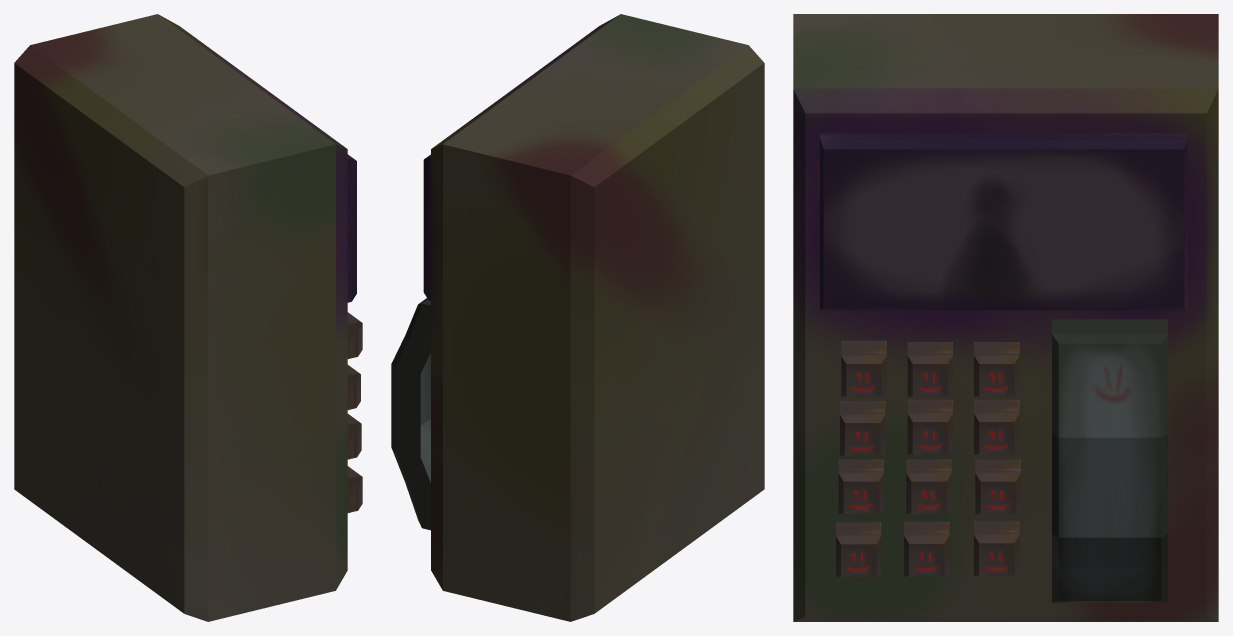
File: checkin-machine.fbx
3 views of the same model, side by side, from view 1: azimuth 30°, elevation 25°; view 2: azimuth 150°, elevation 25°; view 3: azimuth 270°, elevation 25° (orthographic). The views are drawn at different scales.
Parts seen in each view (by area): view 1: check-in-box, check-in-screen, check-in-button.009, check-in-button, check-in-button.006, check-in-button.003; view 2: check-in-box, phone, check-in-screen; view 3: check-in-box, check-in-screen, phone, check-in-button, check-in-button.005, check-in-button.007, check-in-button.008, check-in-button.010, check-in-button.004, check-in-button.006, check-in-button.001, check-in-button.002 (+3 smaller).
Part boxes in pixels (x1=…): check-in-box: x1=14, y1=14, x2=347, y2=621; check-in-screen: x1=347, y1=154, x2=356, y2=302; check-in-button.009: x1=347, y1=466, x2=362, y2=512; check-in-button: x1=347, y1=312, x2=362, y2=358; check-in-button.006: x1=347, y1=414, x2=361, y2=459; check-in-button.003: x1=347, y1=365, x2=360, y2=409; check-in-box: x1=431, y1=14, x2=764, y2=621; phone: x1=391, y1=298, x2=430, y2=530; check-in-screen: x1=423, y1=154, x2=430, y2=300; check-in-box: x1=793, y1=14, x2=1218, y2=621; check-in-screen: x1=820, y1=133, x2=1187, y2=310; phone: x1=1052, y1=319, x2=1167, y2=602; check-in-button: x1=841, y1=340, x2=886, y2=396; check-in-button.005: x1=974, y1=399, x2=1019, y2=454; check-in-button.007: x1=906, y1=459, x2=951, y2=514; check-in-button.008: x1=975, y1=459, x2=1020, y2=514; check-in-button.010: x1=904, y1=521, x2=949, y2=576; check-in-button.004: x1=907, y1=399, x2=952, y2=454; check-in-button.006: x1=838, y1=459, x2=883, y2=514; check-in-button.001: x1=907, y1=342, x2=952, y2=396; check-in-button.002: x1=974, y1=342, x2=1019, y2=396.
Bounding box in the file's own units: 91.38 × 175 × 126.
